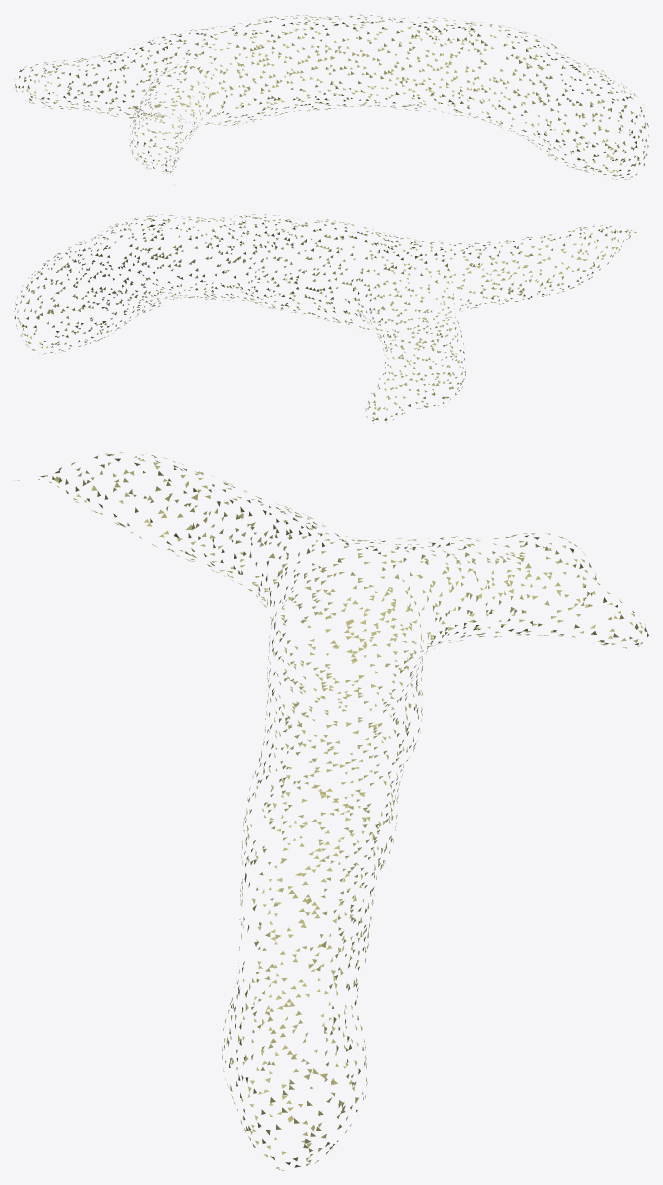
The model's file is morph_009.glb.
3 views of the same model, one above another, from view 1: azimuth 30°, elevation 25°; view 2: azimuth 150°, elevation 25°; view 3: azimuth 270°, elevation 25° (orthographic). The views are drawn at different scales.
Bounding box in the file's own units: 114 × 42.96 × 74.13.
